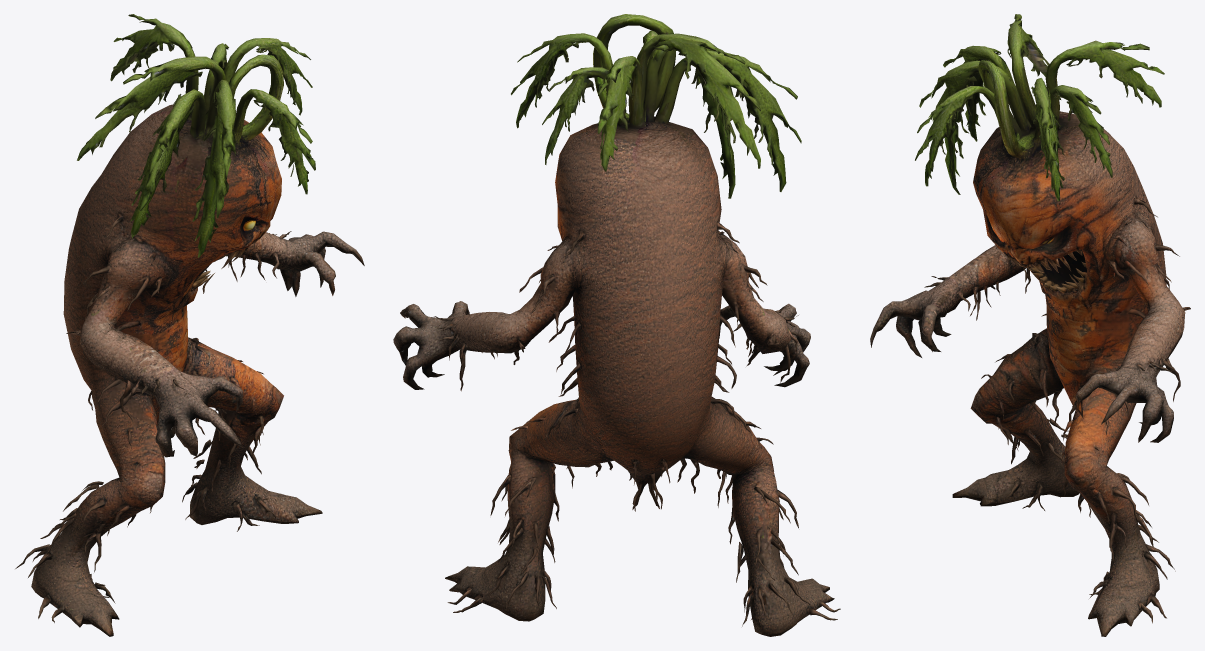
The model's file is tomokazu.glb.
3 renders of one model, left to right at view 1: azimuth 30°, elevation 25°; view 2: azimuth 150°, elevation 25°; view 3: azimuth 270°, elevation 25°, orthographic. The views are drawn at different scales.
Parts seen in each view (by area): view 1: tripo_node_fd353f06-6d06-4c78-965d-6a0f3ee02cdc; view 2: tripo_node_fd353f06-6d06-4c78-965d-6a0f3ee02cdc; view 3: tripo_node_fd353f06-6d06-4c78-965d-6a0f3ee02cdc.
Boxes of the visible parts, x1,y1,x2,y2 form: tripo_node_fd353f06-6d06-4c78-965d-6a0f3ee02cdc: [15, 14, 364, 636]; tripo_node_fd353f06-6d06-4c78-965d-6a0f3ee02cdc: [393, 14, 840, 636]; tripo_node_fd353f06-6d06-4c78-965d-6a0f3ee02cdc: [870, 14, 1190, 636].
Size of the model in its own units: 0.7285 by 0.998 by 0.5605.
1 material, 1 textured.
